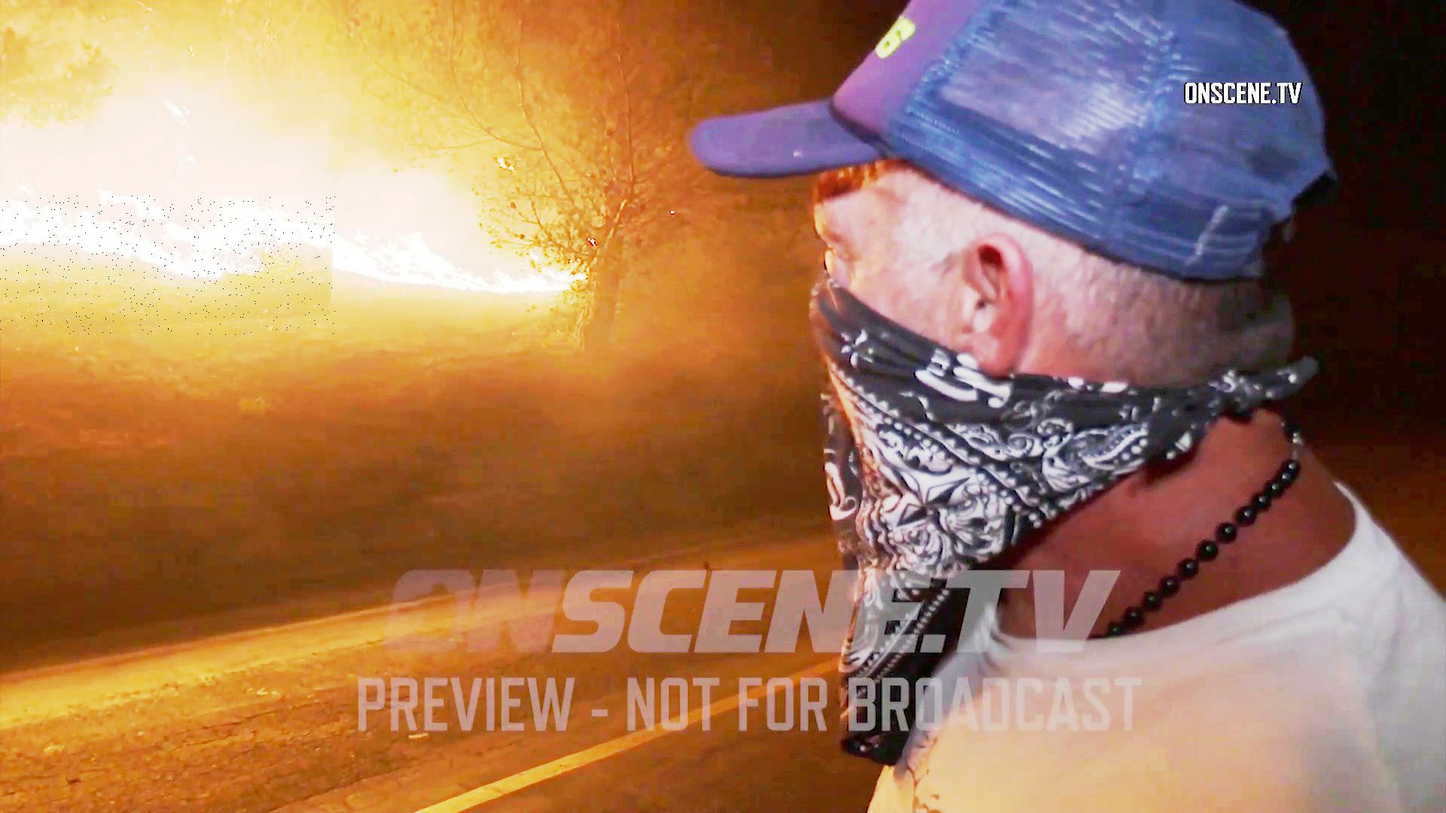fire: (0, 196, 335, 335)
